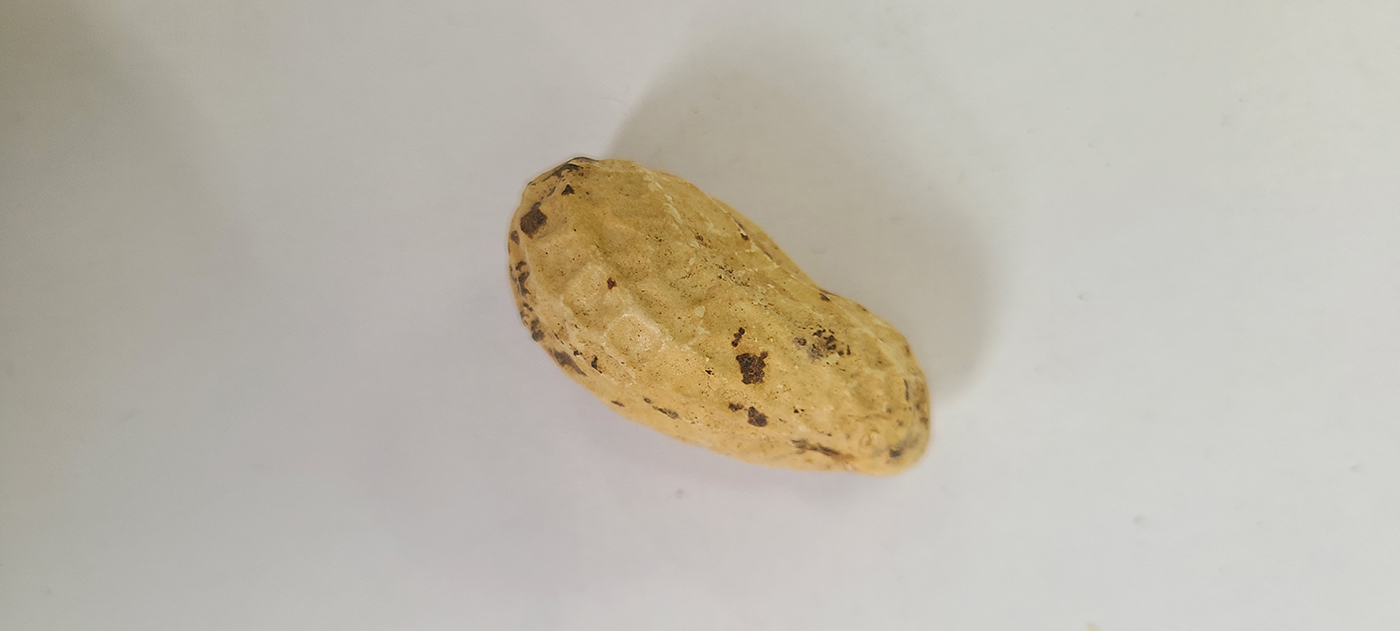h: (508, 144, 932, 480)
